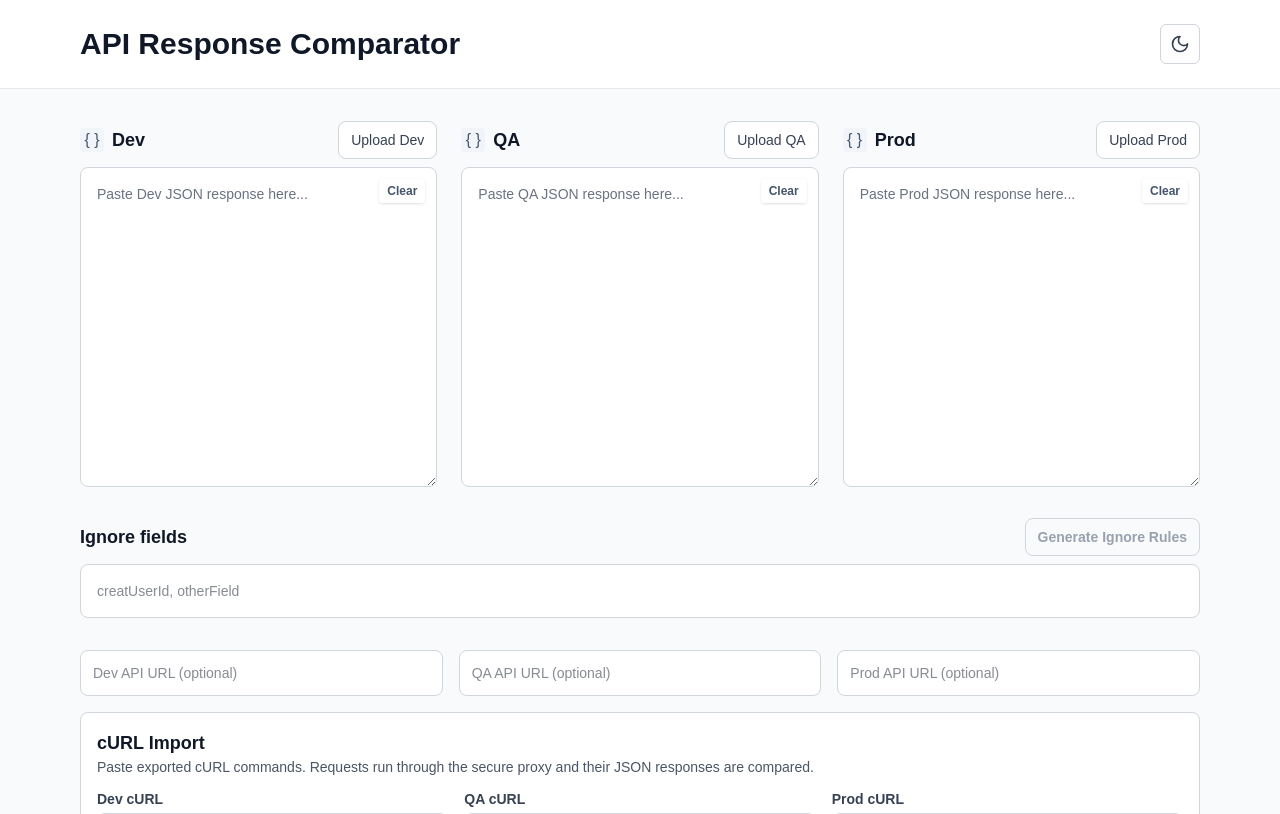
Test: Home › fetches and compares three API URLs
In the field labelled "Dev API URL": (261, 673) 80,650 -> 443,696, type "https://dev.test"
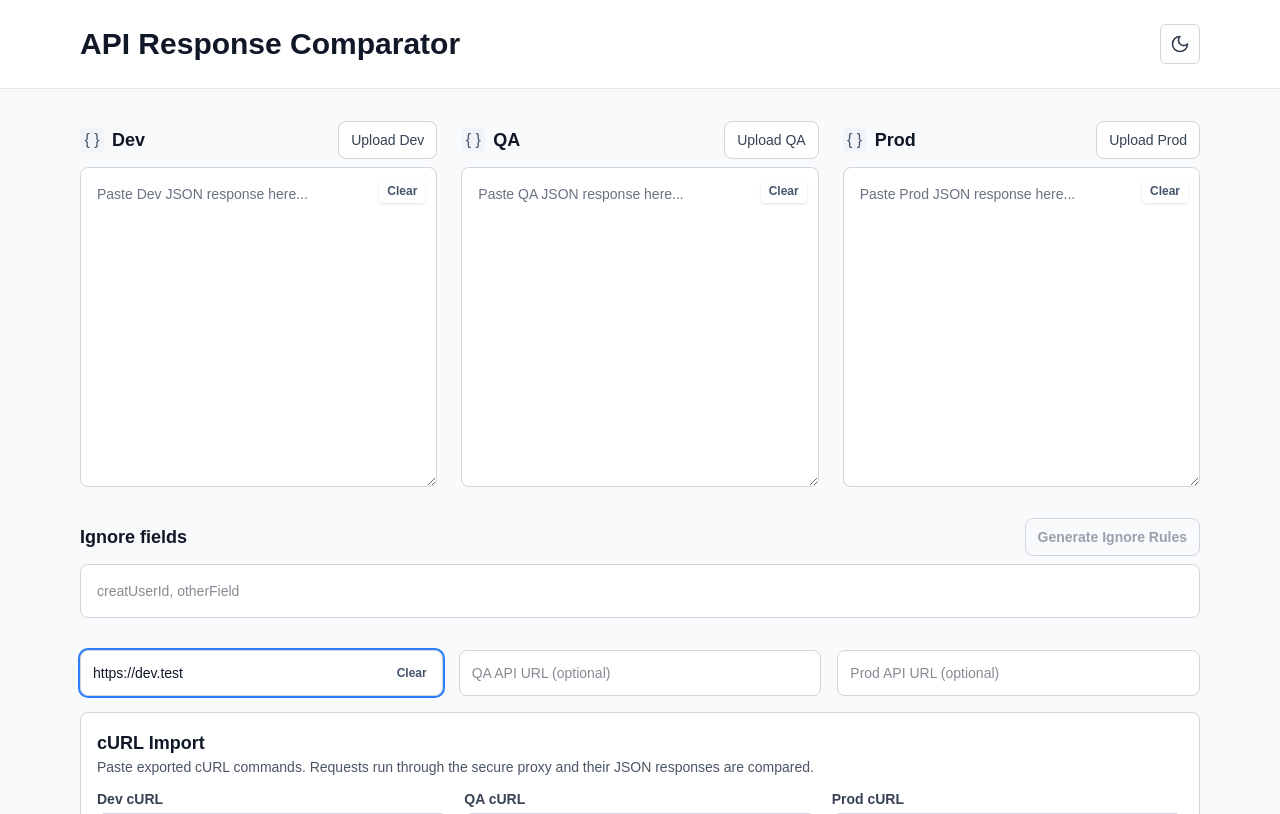
In the field labelled "QA API URL": (640, 673) 459,650 -> 821,696, type "https://qa.test"
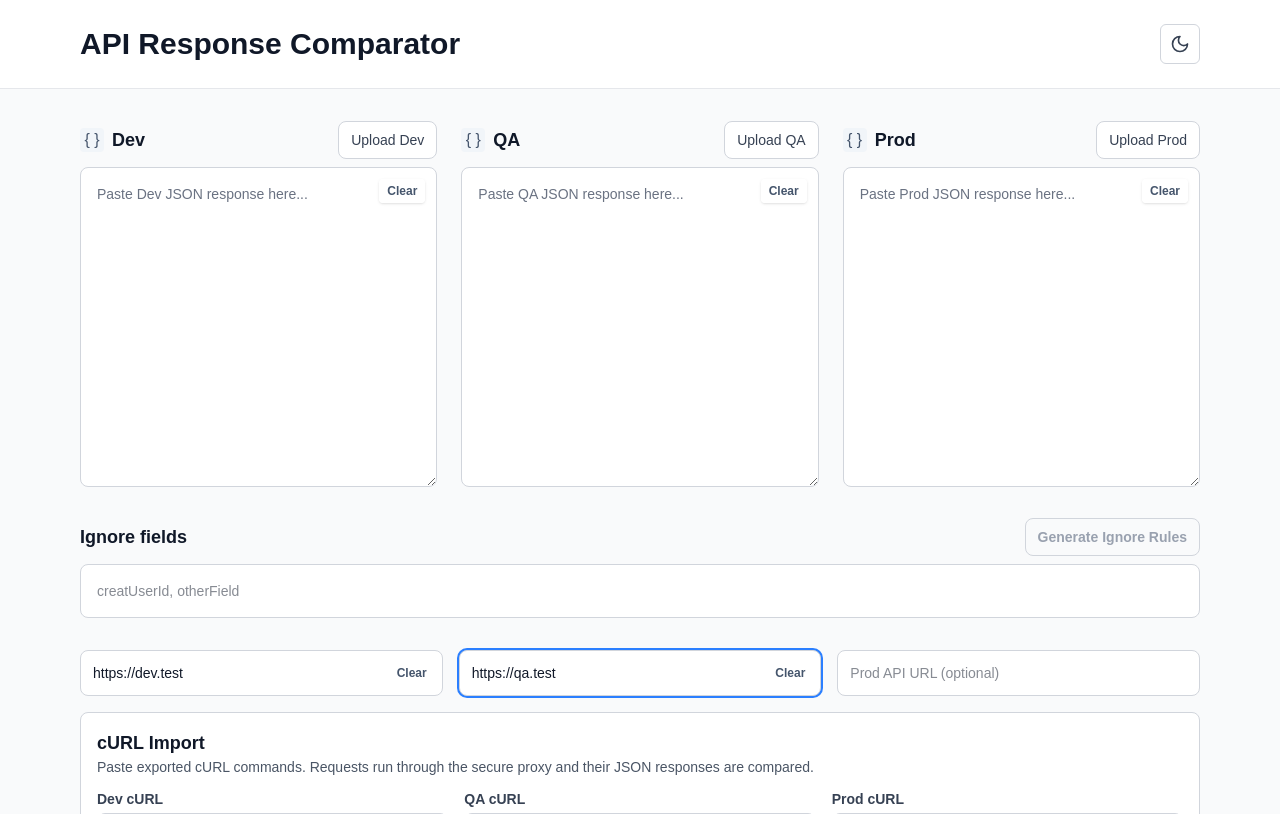
In the field labelled "Prod API URL": (1019, 673) 837,650 -> 1200,696, type "https://prod.test"
(page scrolled)
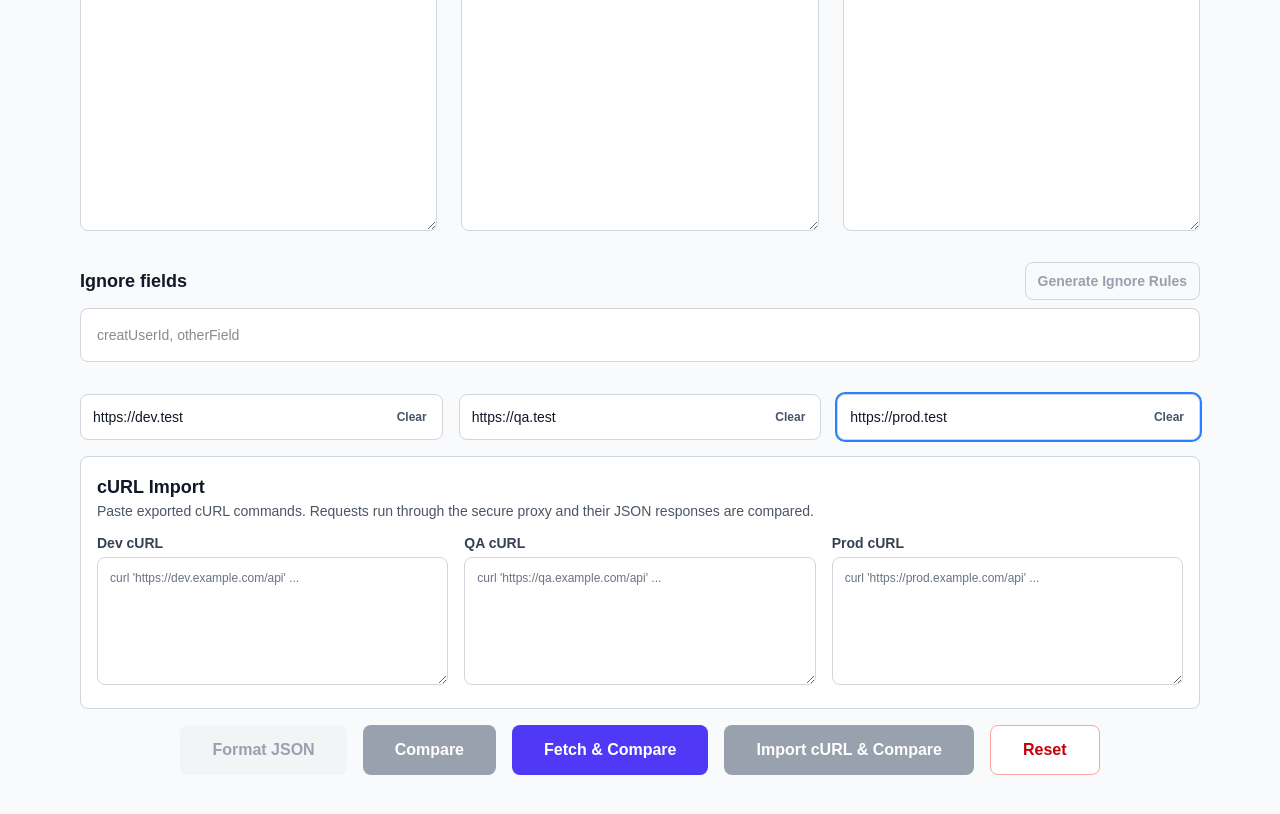
In the text box labelled "Dev cURL": (273, 621) 97,557 -> 448,685, type "curl 'https://curl-dev.test'"
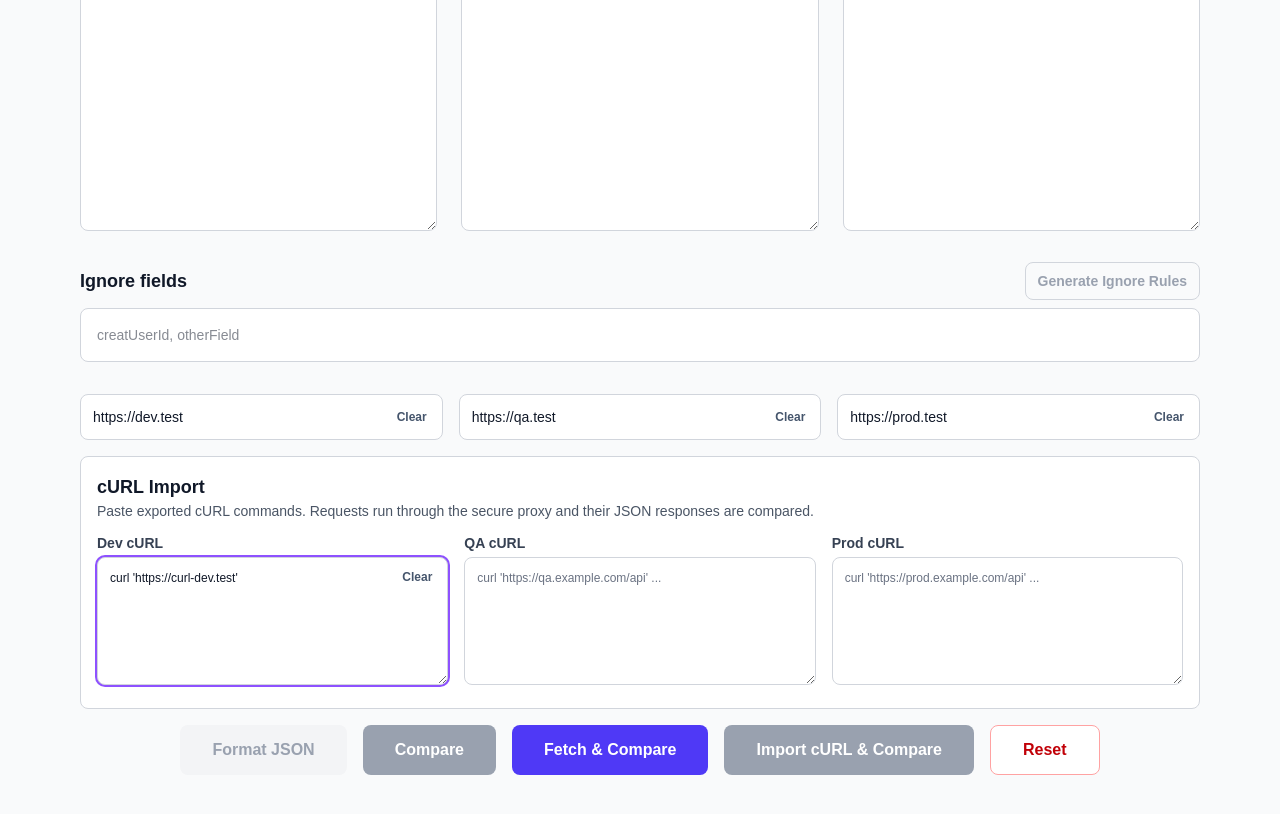
In the text box labelled "QA cURL": (640, 621) 464,557 -> 816,685, type "curl 'https://curl-qa.test'"
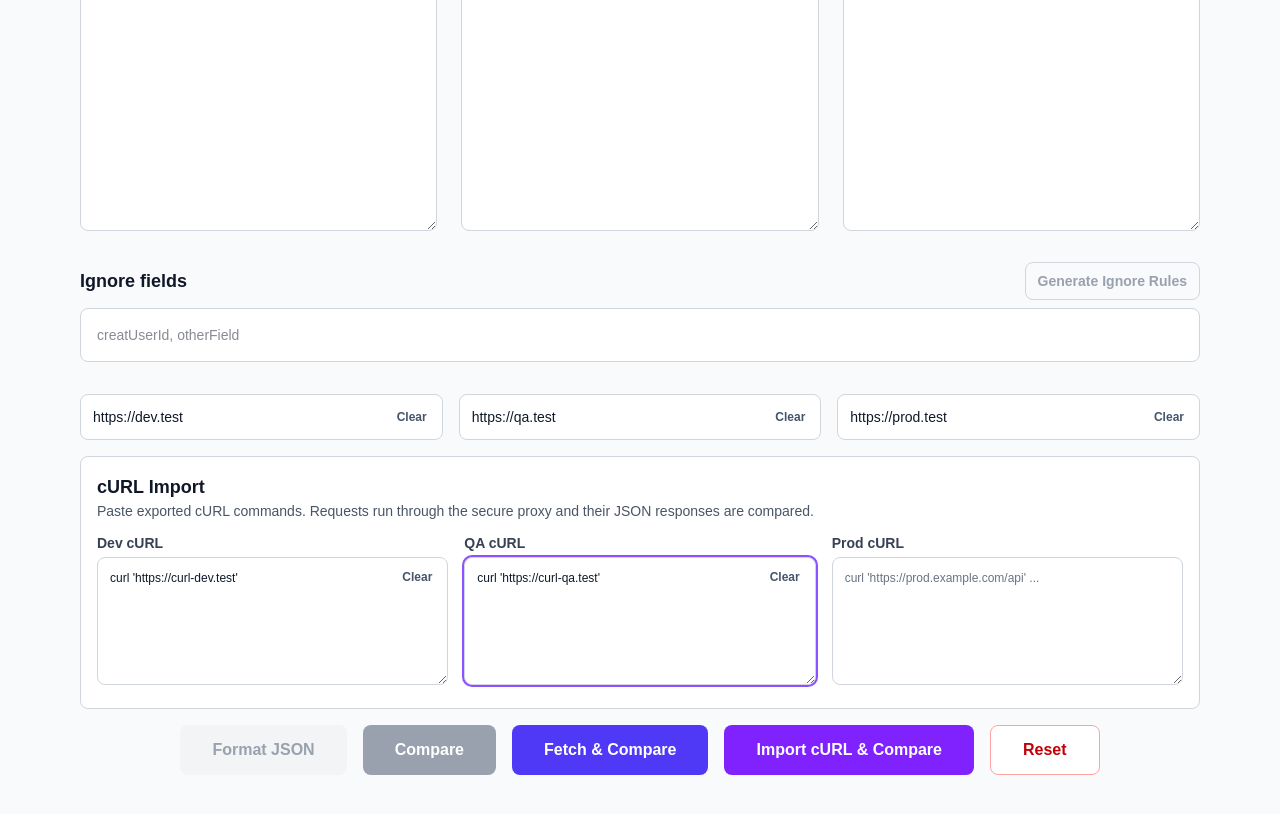
Click the button "Fetch & Compare": (610, 750) 512,725 -> 708,775
(page scrolled)
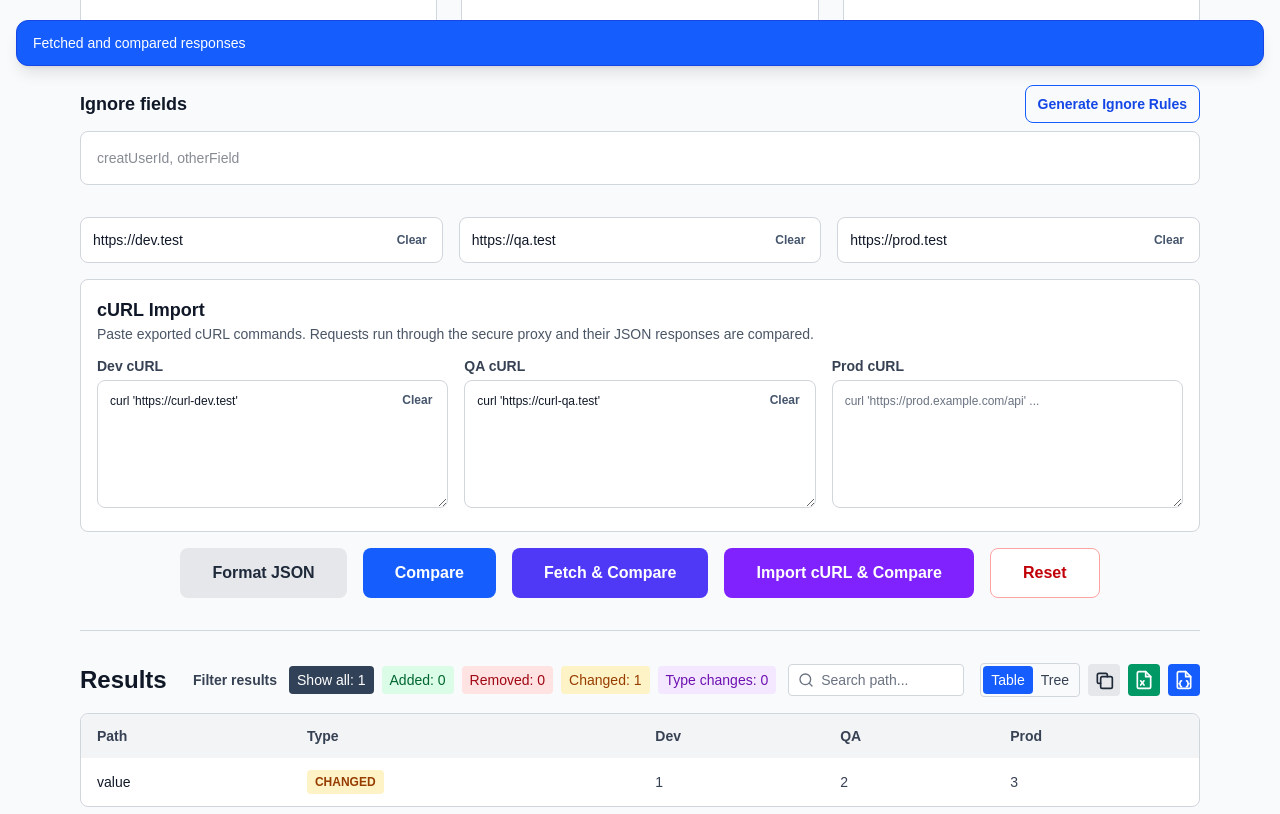
Check: the text "value" is shown, box 81,758 -> 291,806
